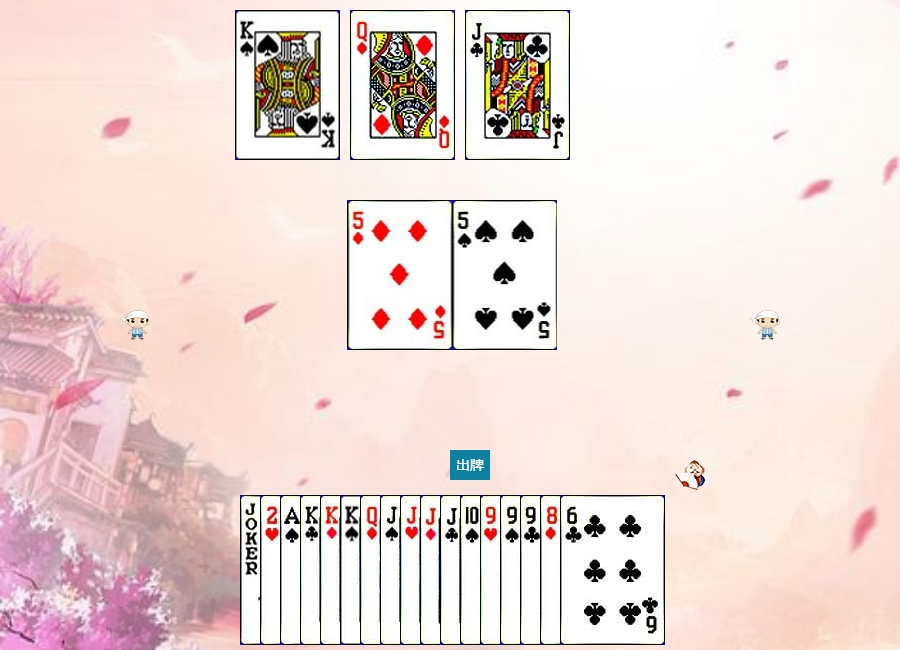10~4: (460, 495, 565, 645)
11~1: (420, 495, 525, 645)
11~2: (465, 10, 570, 160), (440, 495, 545, 645)
11~3: (400, 495, 505, 645)
11~4: (380, 495, 485, 645)
12~1: (350, 10, 455, 160), (360, 495, 465, 645)
13~1: (320, 495, 425, 645)
13~2: (300, 495, 405, 645)
13~4: (235, 10, 340, 160), (340, 495, 445, 645)
14~4: (280, 495, 385, 645)
15~3: (260, 495, 365, 645)
17~3: (240, 495, 345, 645)
5~1: (348, 200, 453, 350)
5~4: (453, 200, 558, 350)
6~2: (560, 495, 665, 645)
8~1: (540, 495, 645, 645)
9~2: (520, 495, 625, 645)
9~3: (480, 495, 585, 645)
9~4: (500, 495, 605, 645)
